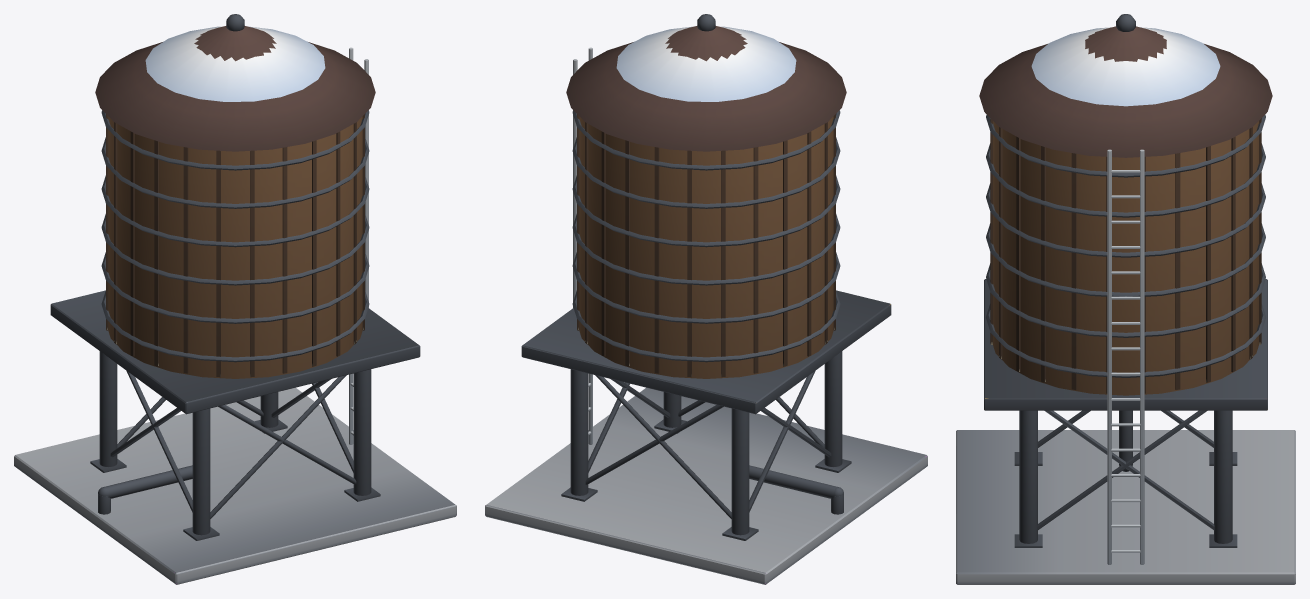
The model's file is ck_water_tank.fbx.
3 views of the same model, side by side, from view 1: azimuth 30°, elevation 25°; view 2: azimuth 150°, elevation 25°; view 3: azimuth 270°, elevation 25° (orthographic). The views are drawn at different scales.
Visible parts, largest first — view 1: ck_water_tank; view 2: ck_water_tank; view 3: ck_water_tank.
Part boxes in pixels (bbox=[...]): ck_water_tank: bbox=[14, 14, 456, 584]; ck_water_tank: bbox=[485, 14, 927, 584]; ck_water_tank: bbox=[956, 14, 1295, 584].
Size of the model in its own units: 1457 by 2360 by 1457.
